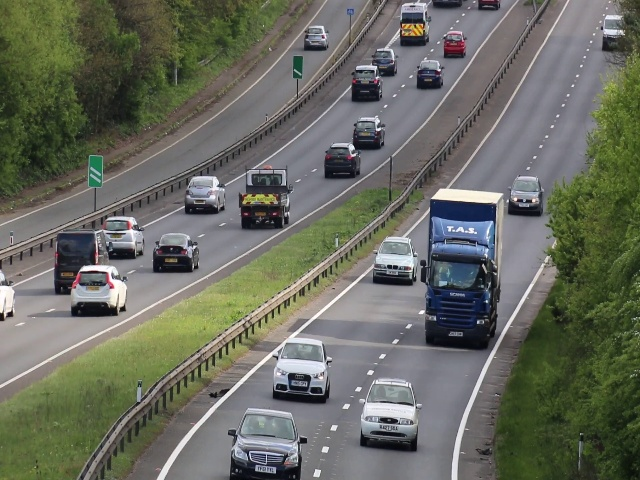car: (425, 246, 495, 348), (228, 406, 304, 480), (361, 377, 418, 450), (273, 338, 331, 401), (241, 167, 289, 227), (72, 266, 127, 315), (55, 234, 99, 294), (373, 236, 418, 285), (153, 233, 199, 272), (103, 217, 145, 256), (183, 175, 226, 213), (509, 174, 543, 215), (324, 142, 360, 177), (399, 4, 429, 45), (351, 64, 383, 102), (352, 116, 385, 149), (1, 263, 17, 321), (416, 60, 444, 89), (602, 15, 624, 51), (303, 24, 330, 50), (443, 31, 468, 59), (372, 49, 396, 76)
